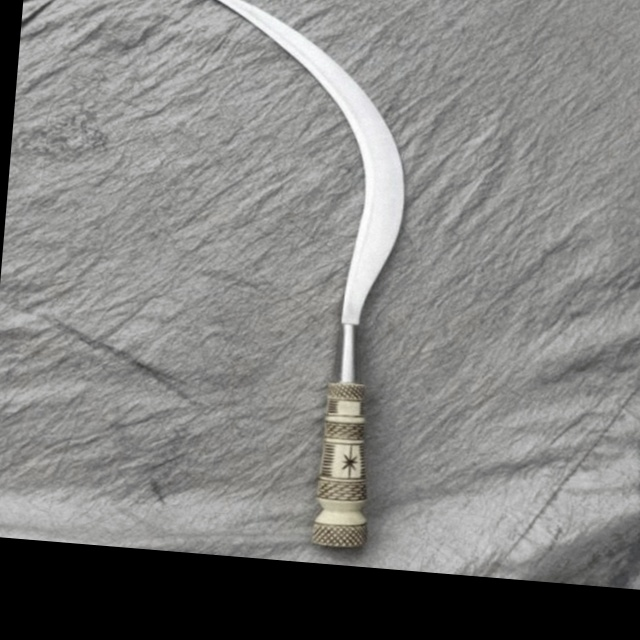Sharp-Object: (135, 0, 443, 553)
